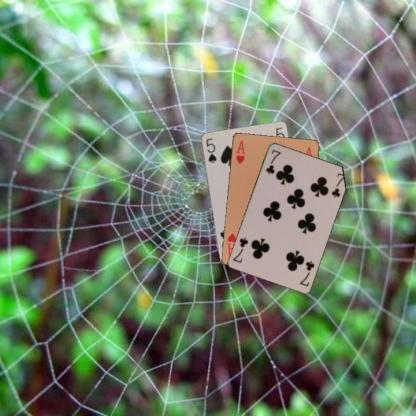5s: (204, 136, 218, 164)
7c: (263, 146, 282, 176), (297, 258, 315, 287)
Ah: (233, 138, 246, 165)
